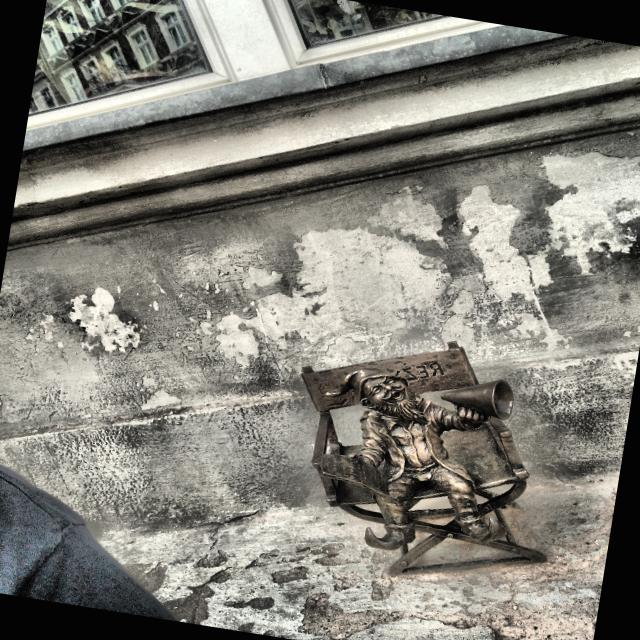Rezyser: (302, 342, 546, 574)
